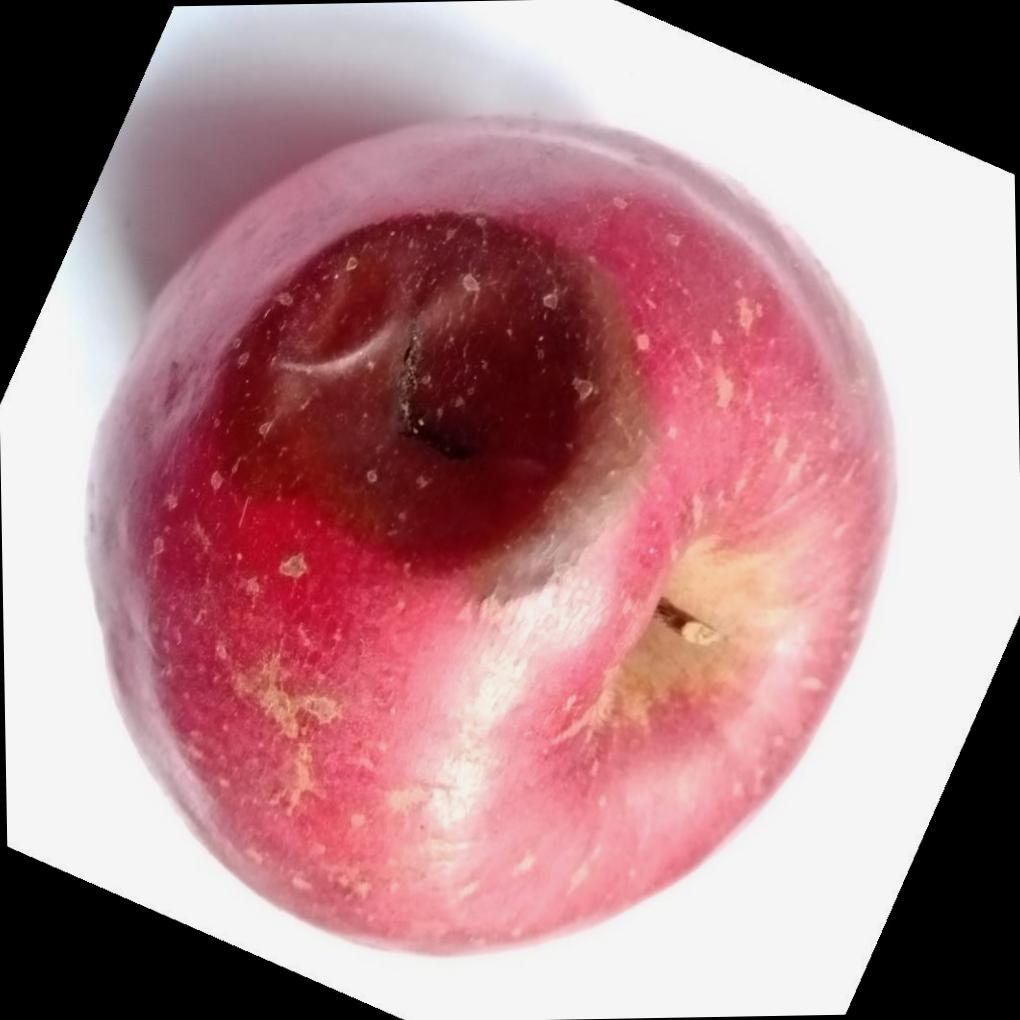FreshOrange: (74, 3, 899, 963)
